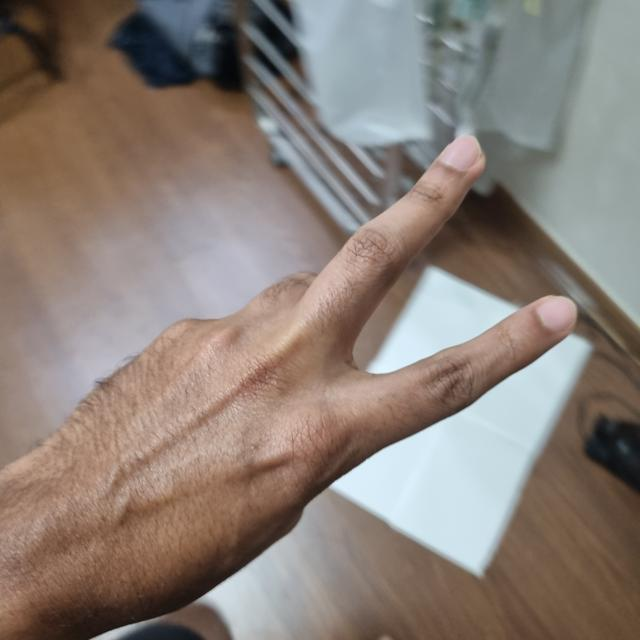Scissors: (9, 136, 578, 629)
